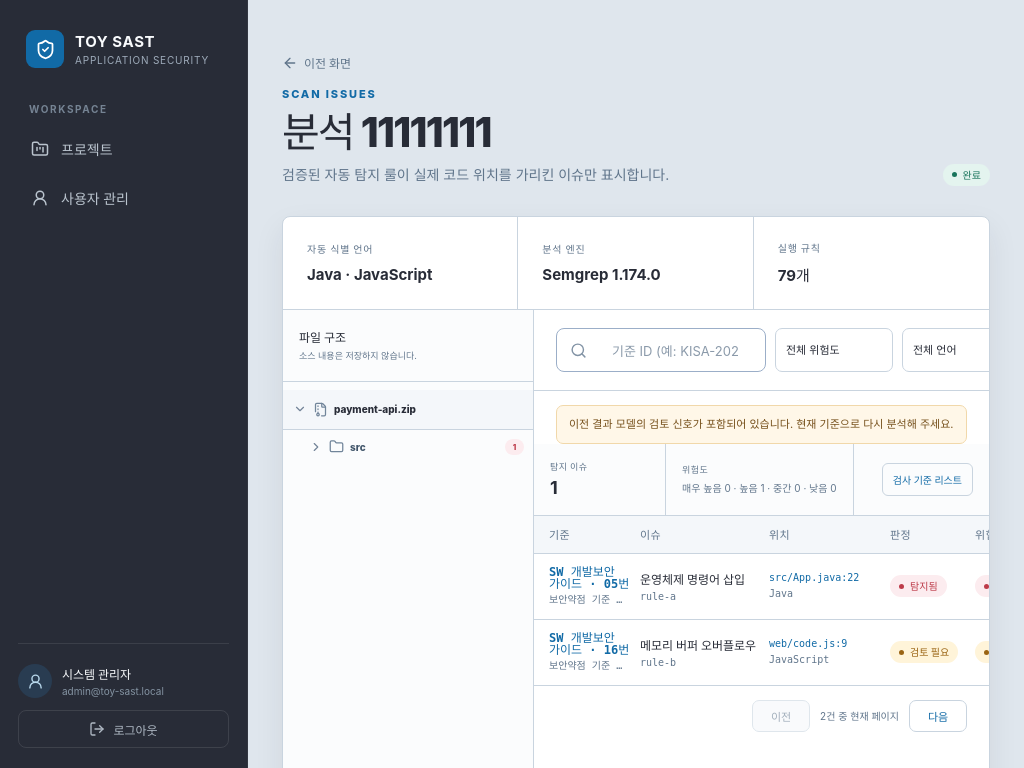
Scenario: scan readiness and issues › adds the selected directory path and scope and renders only descendant issues
Click the list item "src 1".
click(336, 447)  # box 309,438 -> 524,456
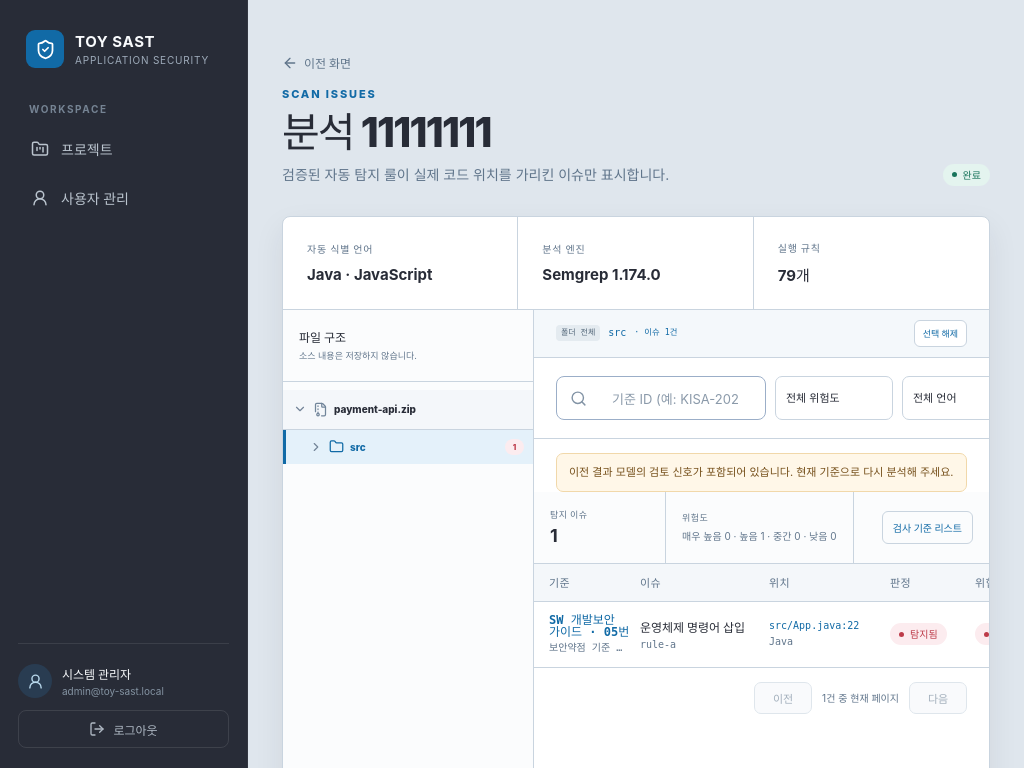
Expected: the link "운영체제 명령어 삽입" is shown, 534,602 -> 989,668
Result: the link "메모리 버퍼 오버플로우" is gone
